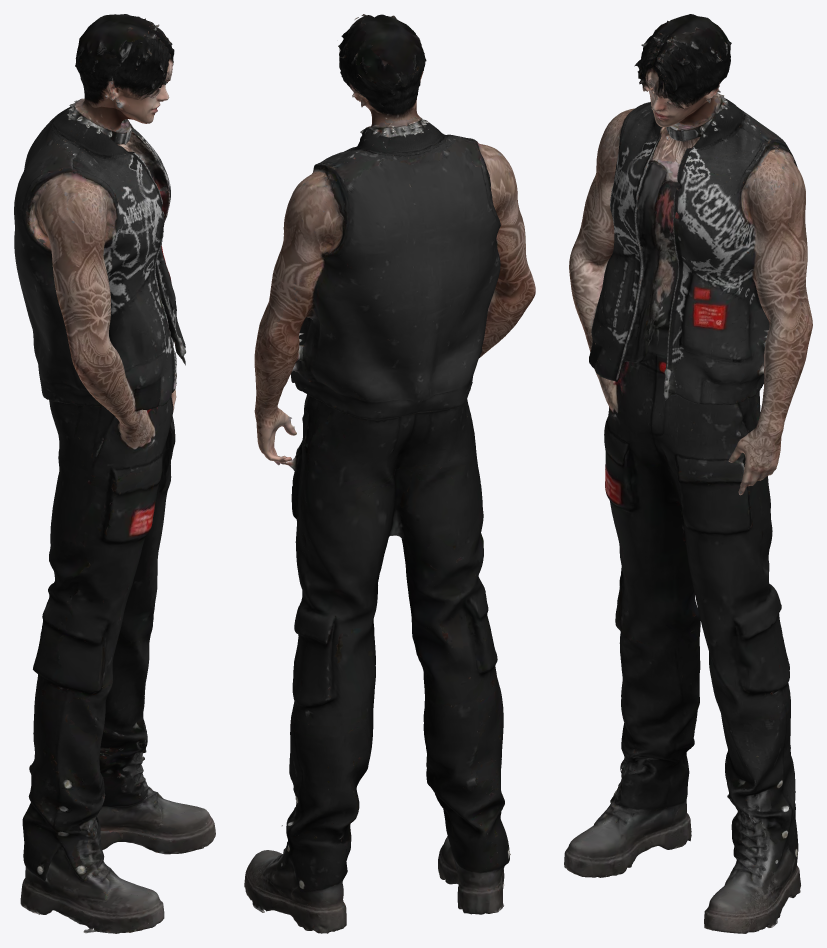
Rendered from man-scan.glb.
3 views of the same model, side by side, from view 1: azimuth 30°, elevation 25°; view 2: azimuth 150°, elevation 25°; view 3: azimuth 270°, elevation 25° (orthographic).
Parts seen in each view (by area): view 1: Object_4, Object_2; view 2: Object_4, Object_2; view 3: Object_2, Object_4.
Boxes of the visible parts, x1=… form: Object_4: x1=14, y1=14, x2=215, y2=933; Object_2: x1=20, y1=17, x2=212, y2=933; Object_4: x1=254, y1=14, x2=535, y2=933; Object_2: x1=244, y1=15, x2=529, y2=933; Object_2: x1=564, y1=21, x2=800, y2=933; Object_4: x1=564, y1=14, x2=812, y2=932.
Bounding box in the file's own units: 8.93 × 33.92 × 8.78.
Materials: 2 (2 with a texture image).
